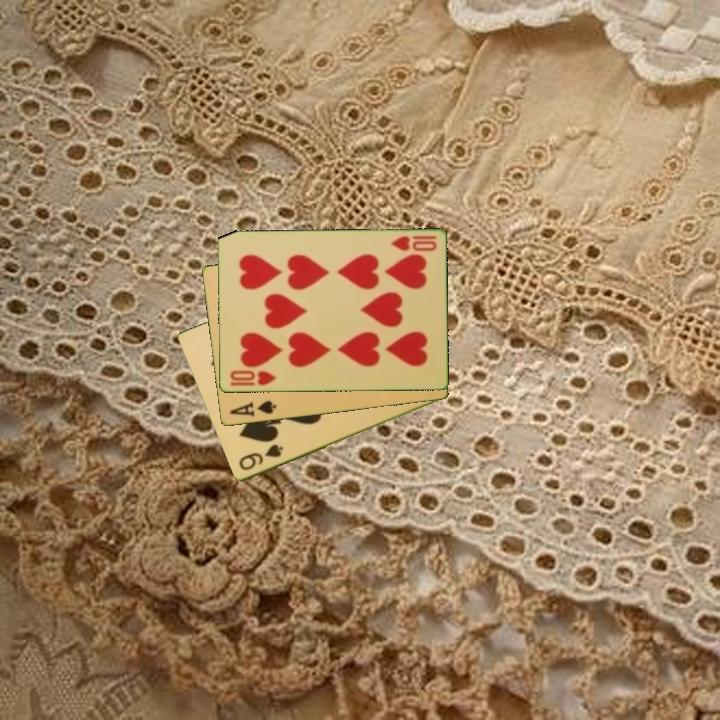10h: (226, 367, 279, 389), (387, 232, 439, 254)
9s: (235, 441, 286, 474)
As: (226, 397, 279, 420)
